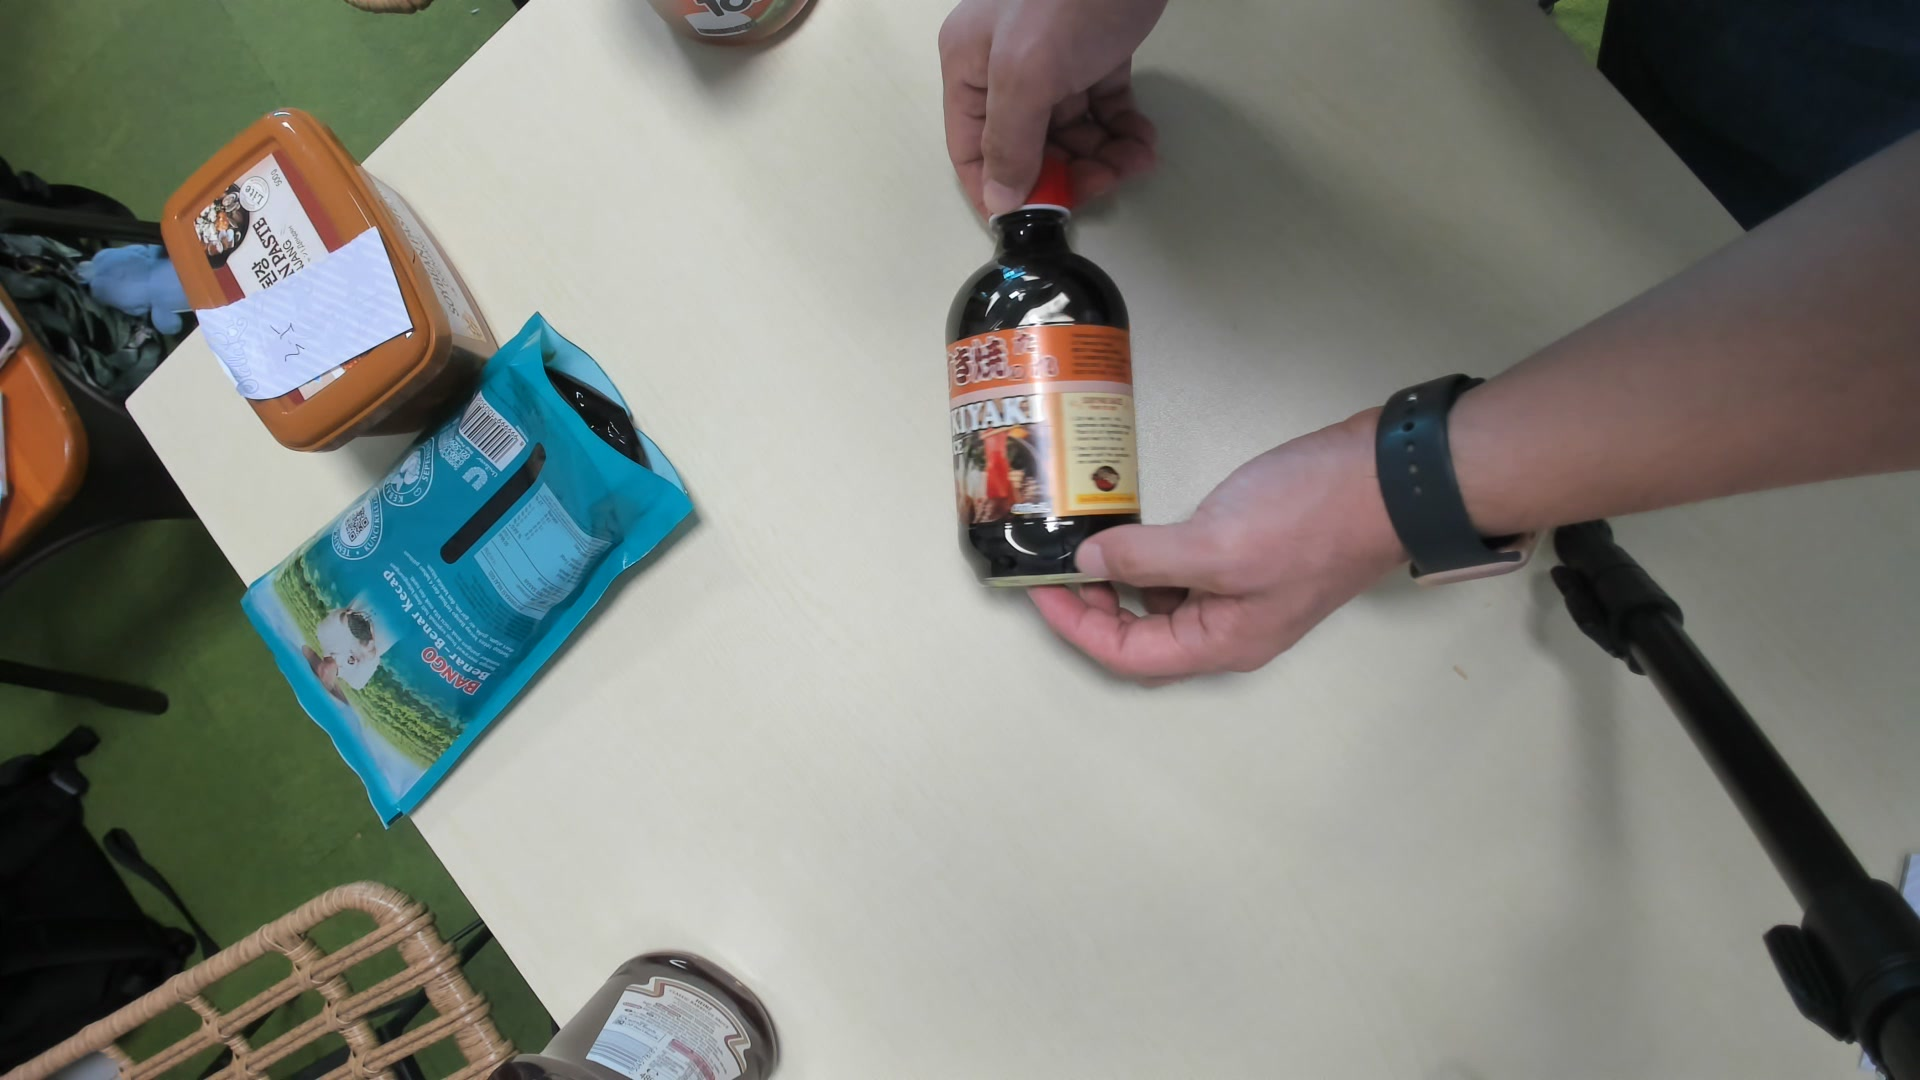OtherSauceDressing_400-499g_NonHalal_NonHealthy: (938, 164, 1150, 593)
